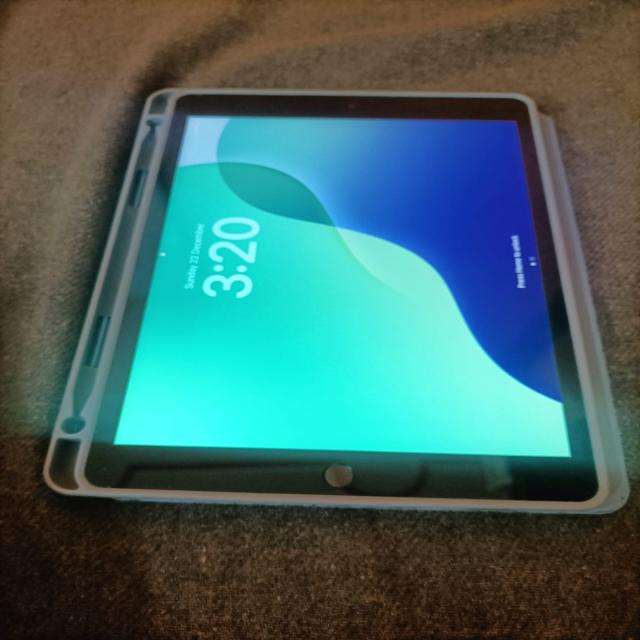tablet: (13, 9, 583, 561)
